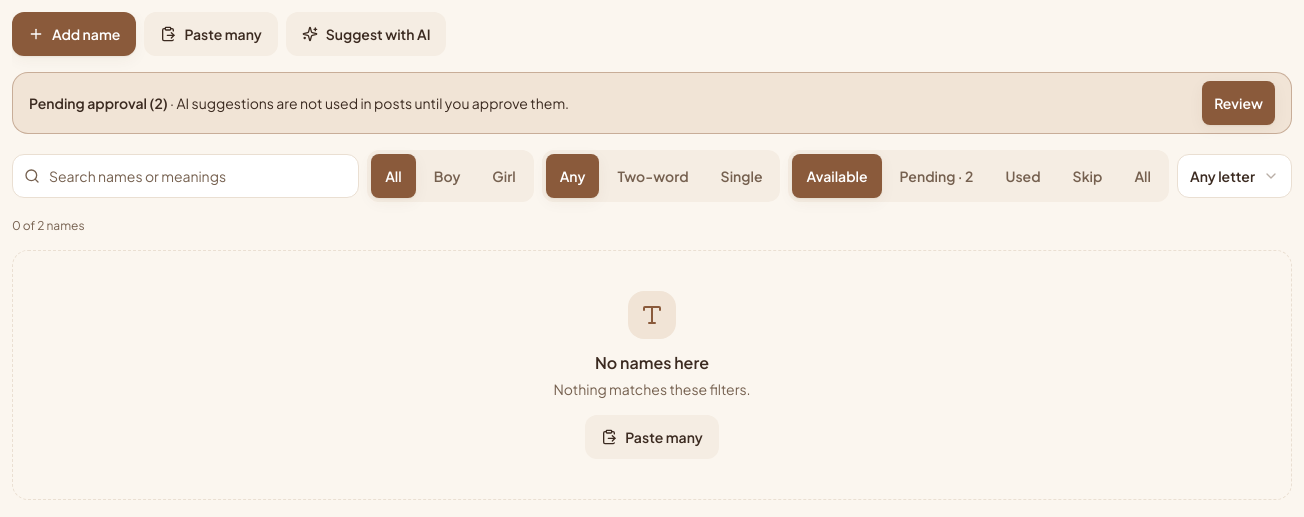
Test: Bulk approve/reject that fails part-way › names: rows the server already approved stay approved; only the rest go back to pending
Click the button "Review" at (1239, 103), box [1202,81,1275,125]
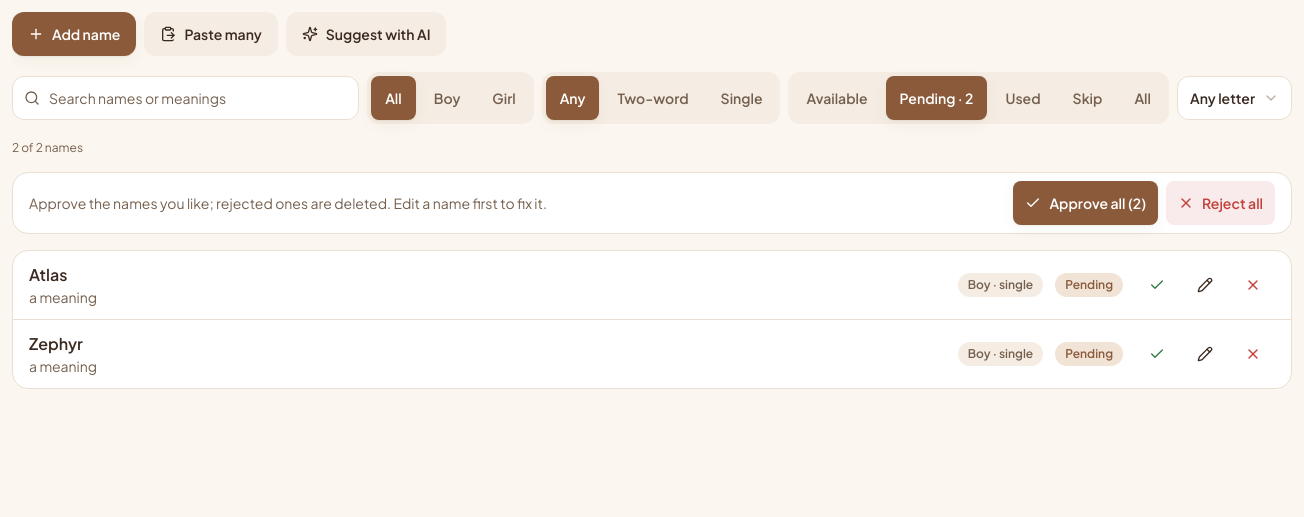
Click the button "Approve all (2)" at (1086, 203), box [1013,181,1158,225]
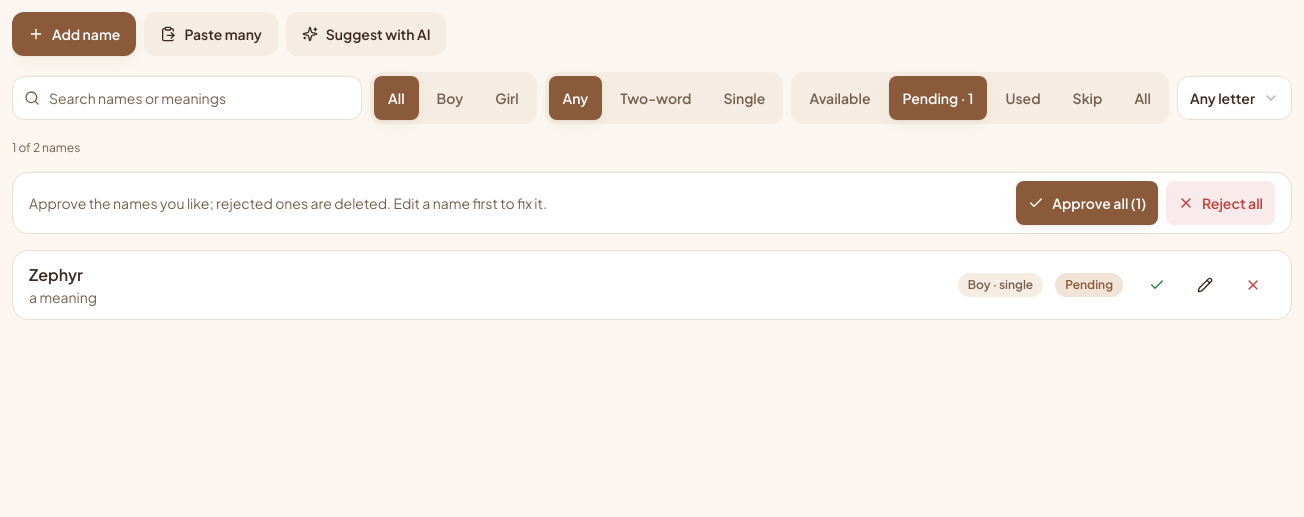
Now the text "Zephyr" is shown, box [29,264,83,285]
Now the text "Atlas" is gone
Now the button "Approve all (1)" is shown, box [1016,181,1158,225]
